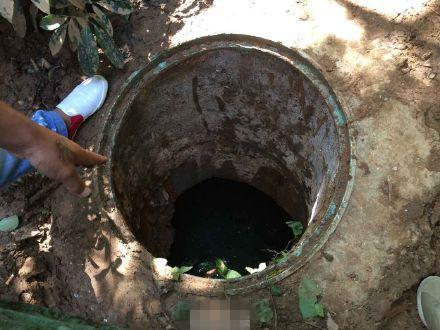wellcover: (95, 21, 353, 286)
